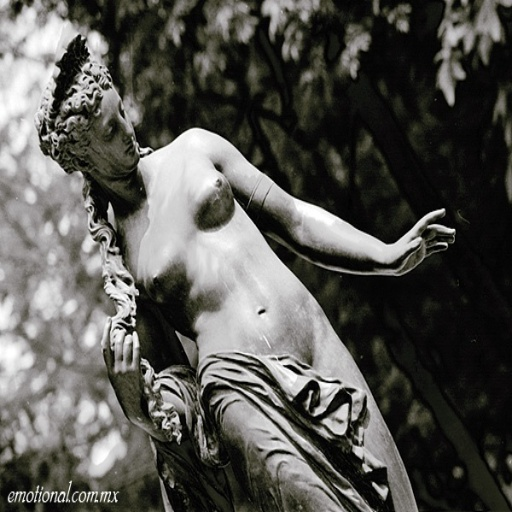hand: (100, 315, 146, 422), (382, 213, 448, 275)
